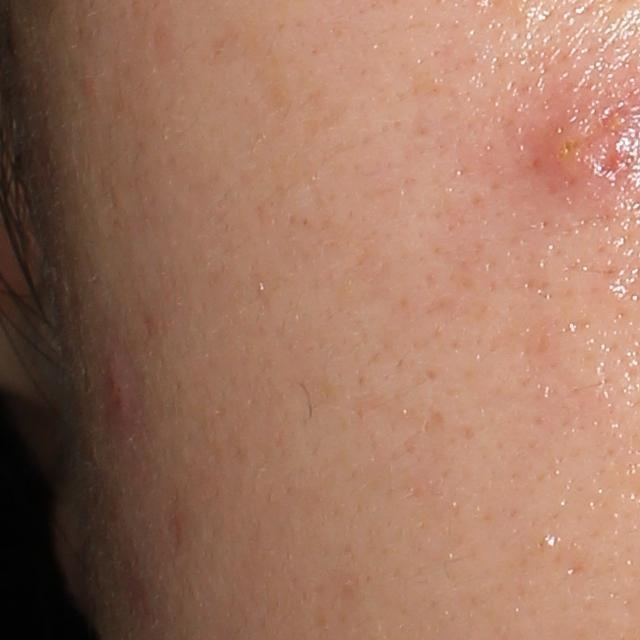papule: (103, 361, 134, 420)
